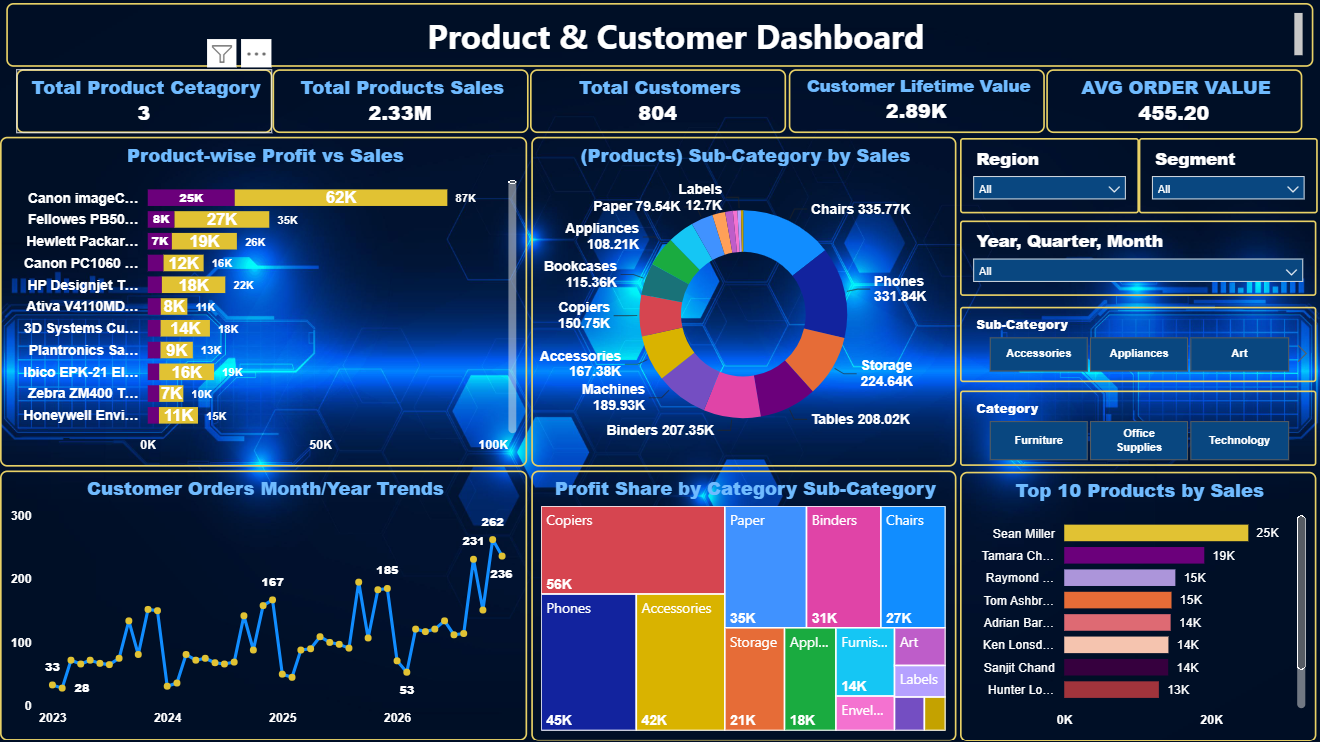

The page's visual inventory and layout, read from the dashboard file:
{"tool":"powerbi","page":{"name":"Product & Customer Dashboard","canvas":[1280,720],"ordinal":1},"visuals":[{"type":"textbox","box":[10.9,4.8,1261.9,61.5],"z":0},{"type":"card","title":"Total Customers","fields":{"Values":["Orders.Total Customers"]},"box":[516.4,68.8,247.3,61.5],"z":1000},{"type":"card","title":"Total Products Sales","fields":{"Values":["Orders.Total_sales"]},"box":[268,68.8,247.3,61.5],"z":2000},{"type":"card","title":"Total Product Cetagory","fields":{"Values":["Orders.Total_products_cetagorys"]},"box":[20.5,68.8,247.3,61.5],"z":3000},{"type":"card","title":"Customer Lifetime Value","fields":{"Values":["Orders.Customer Lifetime Value"]},"box":[766.3,68.8,247.3,61.5],"z":4000},{"type":"card","title":"AVG ORDER VALUE","fields":{"Values":["Orders.AVG_ORDER"]},"box":[1014.8,68.8,247.3,61.5],"z":5000},{"type":"barChart","title":"Product-wise Profit vs Sales ","fields":{"Y":["Orders.Total_Profit","Orders.Total_sales"],"Category":["Orders.Product Name"]},"box":[4.8,133.9,509.1,318.5],"z":6000},{"type":"slicer","fields":{"Values":["Orders.Region"]},"box":[931.8,135,172.5,72.5],"z":7000},{"type":"lineChart","title":"Customer Orders Month/Year Trends","fields":{"Category":["Orders.Order Date.Variation.Date Hierarchy.Year","Orders.Order Date.Variation.Date Hierarchy.Month"],"Y":["Orders.TOTAL_ORDER"]},"box":[4.8,456.3,509,260.6],"z":8000},{"type":"donutChart","title":"(Products) Sub-Category by Sales","fields":{"Category":["Orders.Sub-Category"],"Y":["Orders.Total_sales"]},"box":[517.6,133.9,410.2,318.5],"z":9000},{"type":"treemap","title":"Profit Share by Category Sub-Category","fields":{"Group":["Orders.Sub-Category","Orders.Category"],"Values":["Orders.Total_Profit"]},"box":[517.6,456.3,410.1,261.3],"z":10000},{"type":"barChart","title":"Top 10 Products by Sales","fields":{"Category":["Orders.Customer Name"],"Y":["Orders.Total_sales"]},"box":[931.4,457.2,343.8,260.6],"z":11000},{"type":"slicer","fields":{"Values":["Orders.Segment"]},"box":[1104.4,135,172.5,72.5],"z":12000},{"type":"slicer","fields":{"Values":["Orders.Order Date.Variation.Date Hierarchy.Year","Orders.Order Date.Variation.Date Hierarchy.Quarter","Orders.Order Date.Variation.Date Hierarchy.Month"]},"box":[931.4,215,343.8,72.5],"z":13000},{"type":"slicer","fields":{"Values":["Orders.Sub-Category"]},"box":[931.4,297.6,343.8,72.5],"z":14000},{"type":"slicer","fields":{"Values":["Orders.Category"]},"box":[931.4,378.8,343.8,72.5],"z":15000}]}

Visuals, with their boxes in screenshot pixels (x1, y1, x2, y2), scaled from the page's 1280x720 canvas onto the 1320x742 screenshot:
textbox: rect(11, 5, 1313, 68)
"Total Customers" card: rect(533, 71, 788, 134)
"Total Products Sales" card: rect(276, 71, 531, 134)
"Total Product Cetagory" card: rect(21, 71, 276, 134)
"Customer Lifetime Value" card: rect(790, 71, 1045, 134)
"AVG ORDER VALUE" card: rect(1047, 71, 1302, 134)
"Product-wise Profit vs Sales " barChart: rect(5, 138, 530, 466)
slicer - Orders.Region: rect(961, 139, 1139, 214)
"Customer Orders Month/Year Trends" lineChart: rect(5, 470, 530, 739)
"(Products) Sub-Category by Sales" donutChart: rect(534, 138, 957, 466)
"Profit Share by Category Sub-Category" treemap: rect(534, 470, 957, 740)
"Top 10 Products by Sales" barChart: rect(961, 471, 1315, 740)
slicer - Orders.Segment: rect(1139, 139, 1317, 214)
slicer - Orders.Order Date.Variation.Date Hierarchy.Year x Orders.Order Date.Variation.Date Hierarchy.Quarter: rect(961, 222, 1315, 296)
slicer - Orders.Sub-Category: rect(961, 307, 1315, 381)
slicer - Orders.Category: rect(961, 390, 1315, 465)
